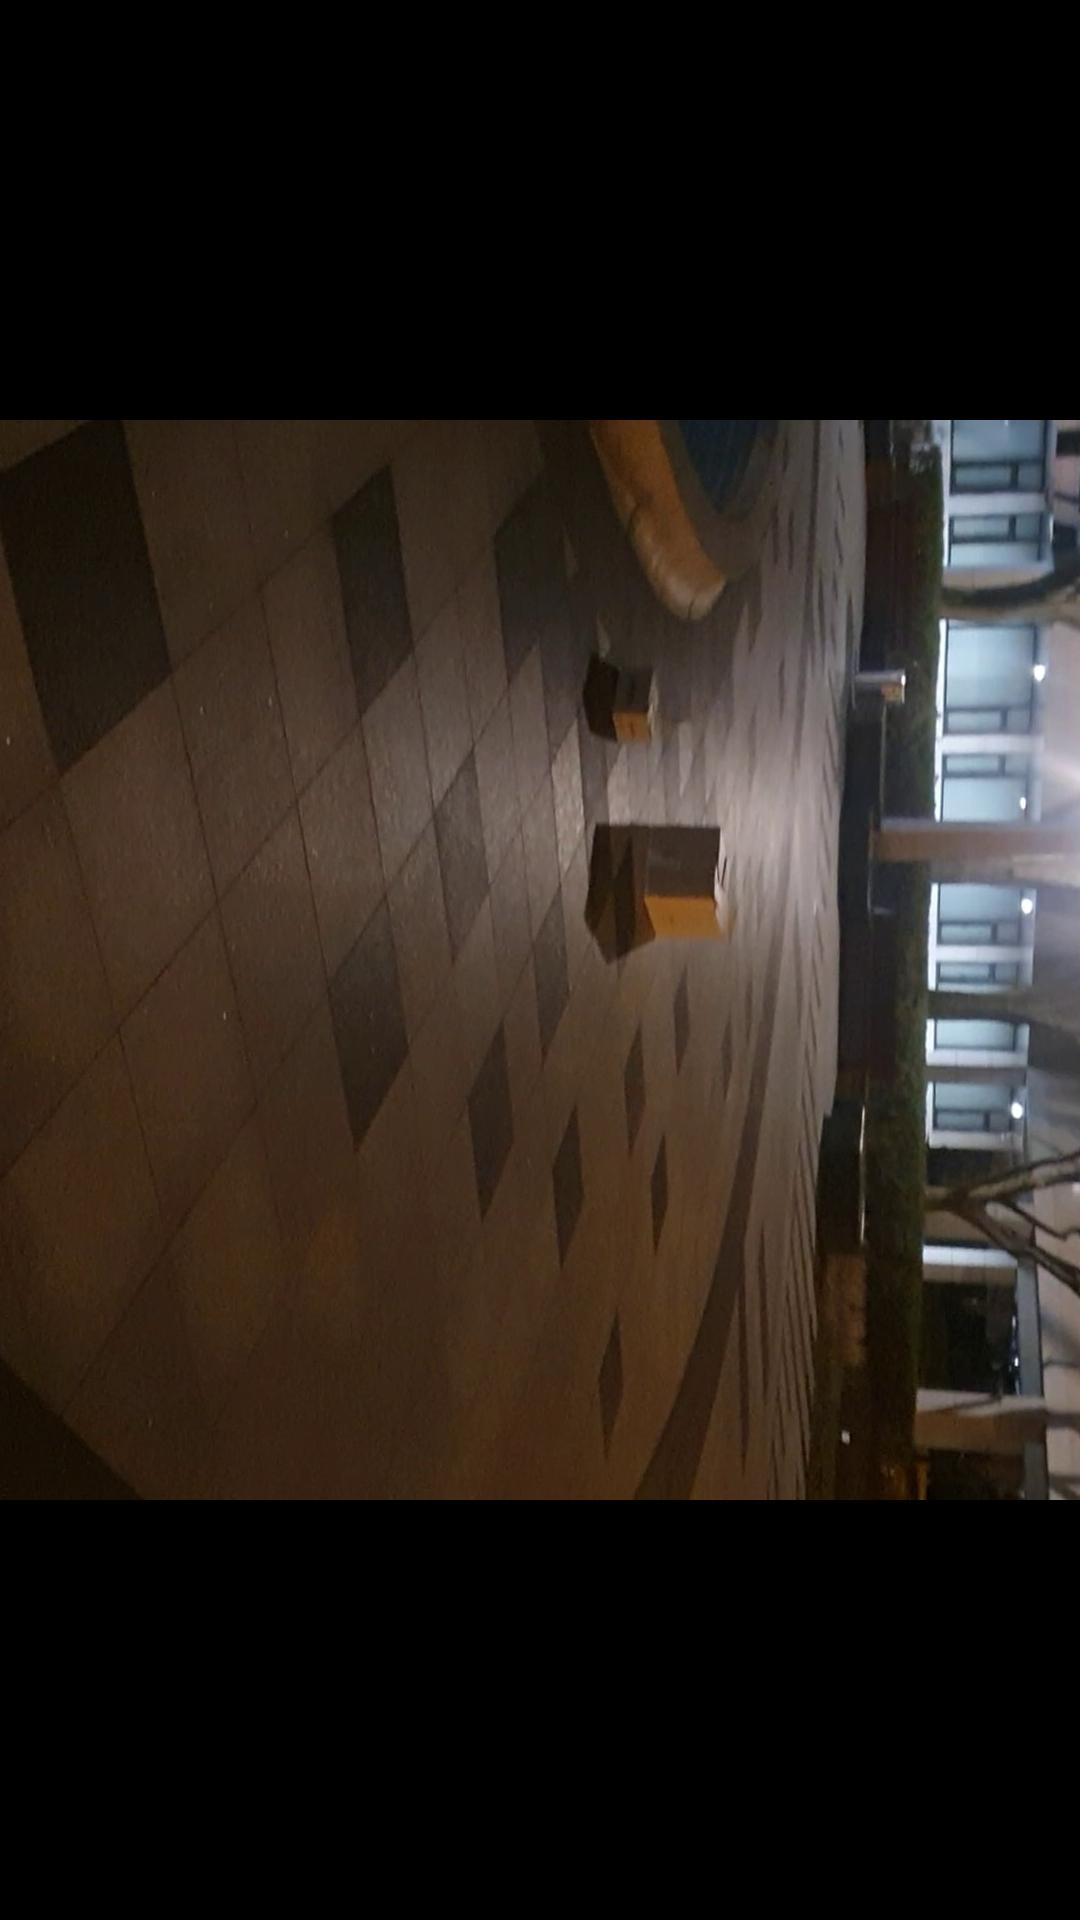Box: (632, 818, 737, 945), (603, 666, 670, 756)
